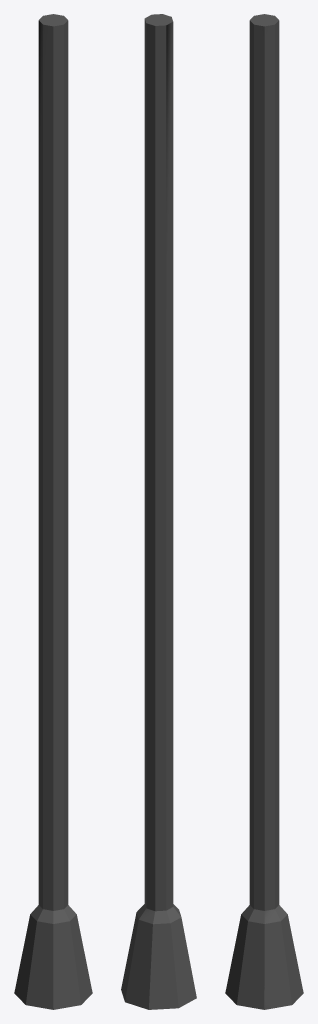
File: Sign_Pole.fbx
3 views of the same model, side by side, from view 1: azimuth 90°, elevation 25°; view 2: azimuth 210°, elevation 25°; view 3: azimuth 270°, elevation 25° (orthographic).
Visible parts, largest first — view 1: Cylinder.022; view 2: Cylinder.022; view 3: Cylinder.022.
Part boxes in pixels (x1,y1,x2,y2): Cylinder.022: (14,14,92,1009); Cylinder.022: (121,14,196,1009); Cylinder.022: (225,14,303,1009).
Bounding box in the file's own units: 16.15 × 221 × 16.15.
